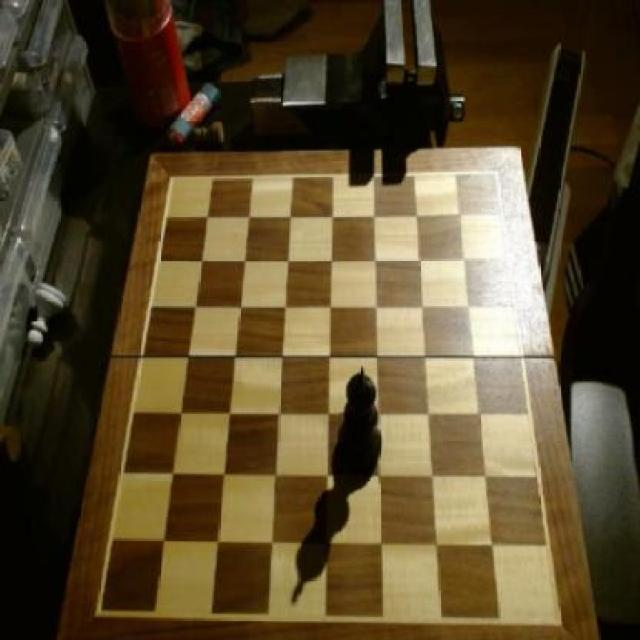black-bishop: (340, 368, 386, 486)
